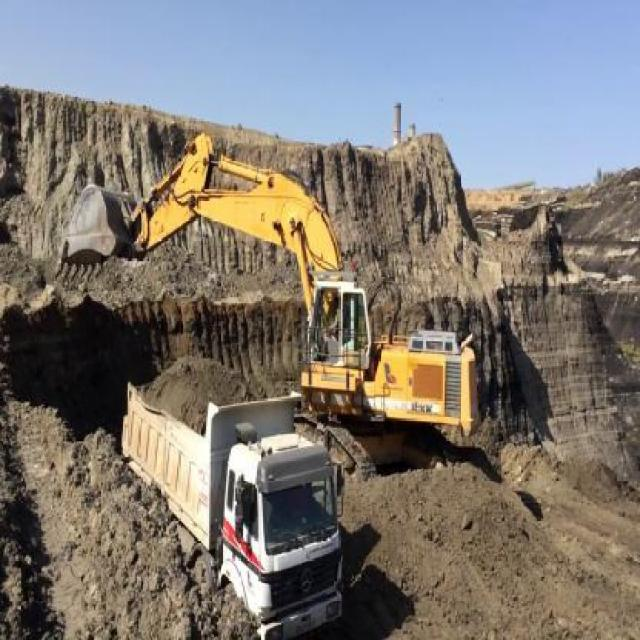Dump Truck: (118, 379, 344, 636)
Excavator: (54, 131, 480, 478)
